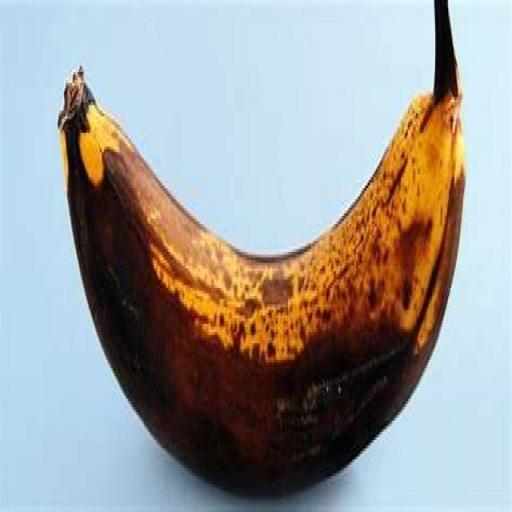fruit: (58, 0, 463, 492)
